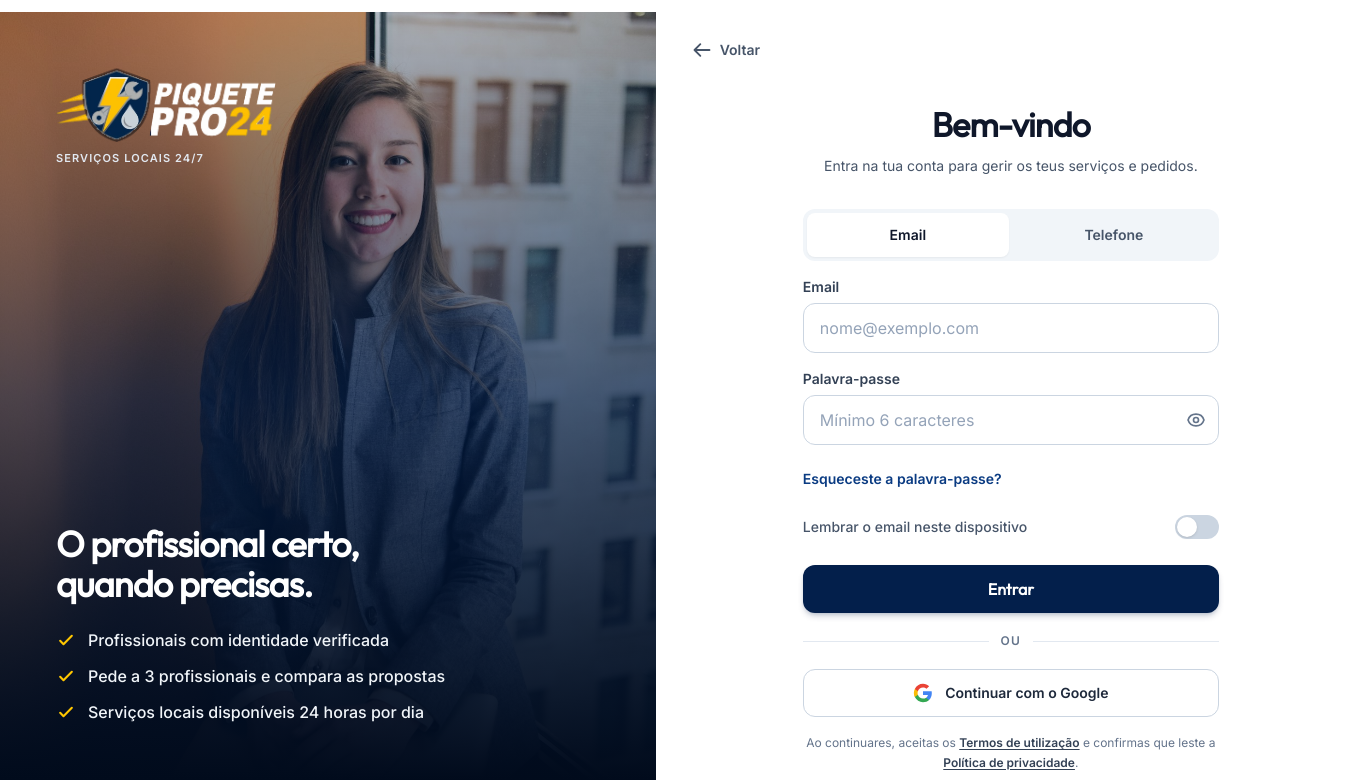
Test: Login — texto e estrutura › mostra e oculta a palavra-passe
Click the button named "Mostrar palavra-passe".
click(1196, 420)  # box [1174,398,1218,442]
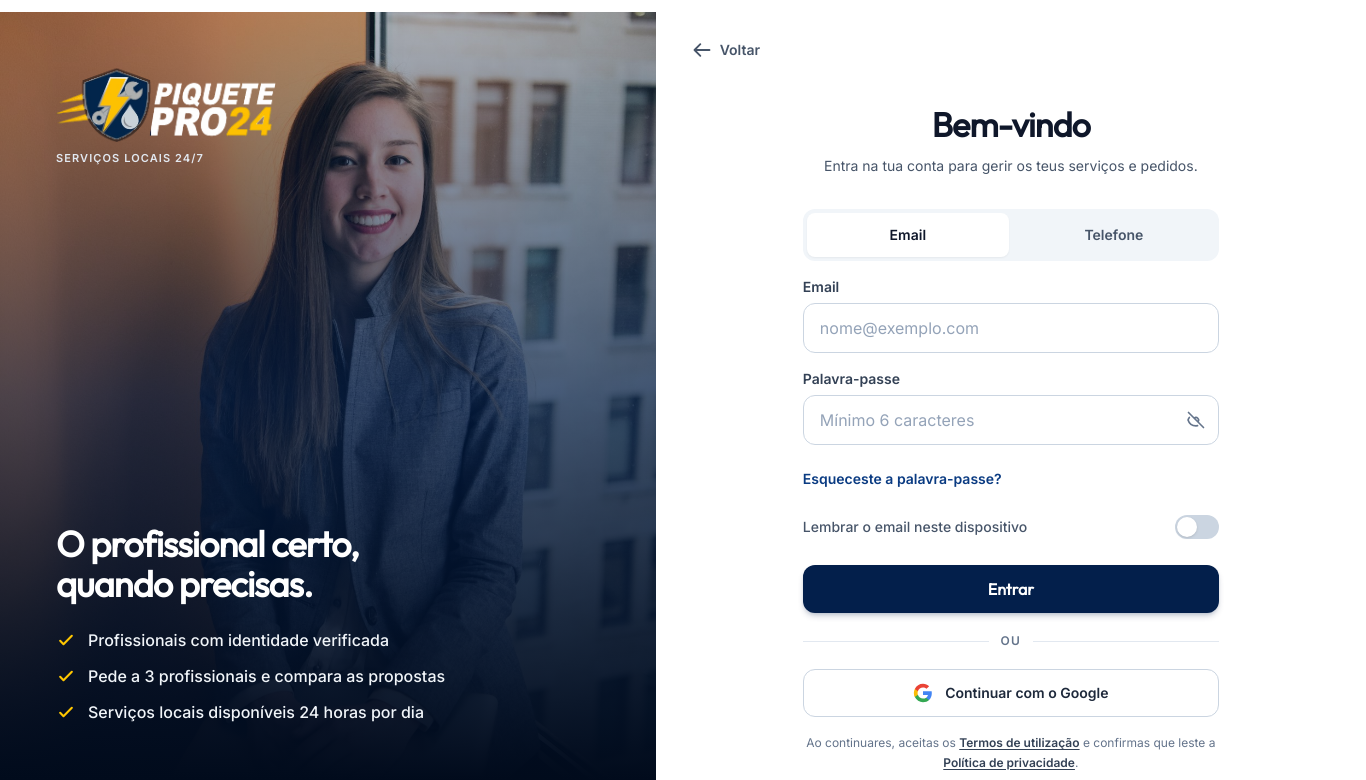
Now the button named "Ocultar palavra-passe" is shown, box [1174,398,1218,442]
